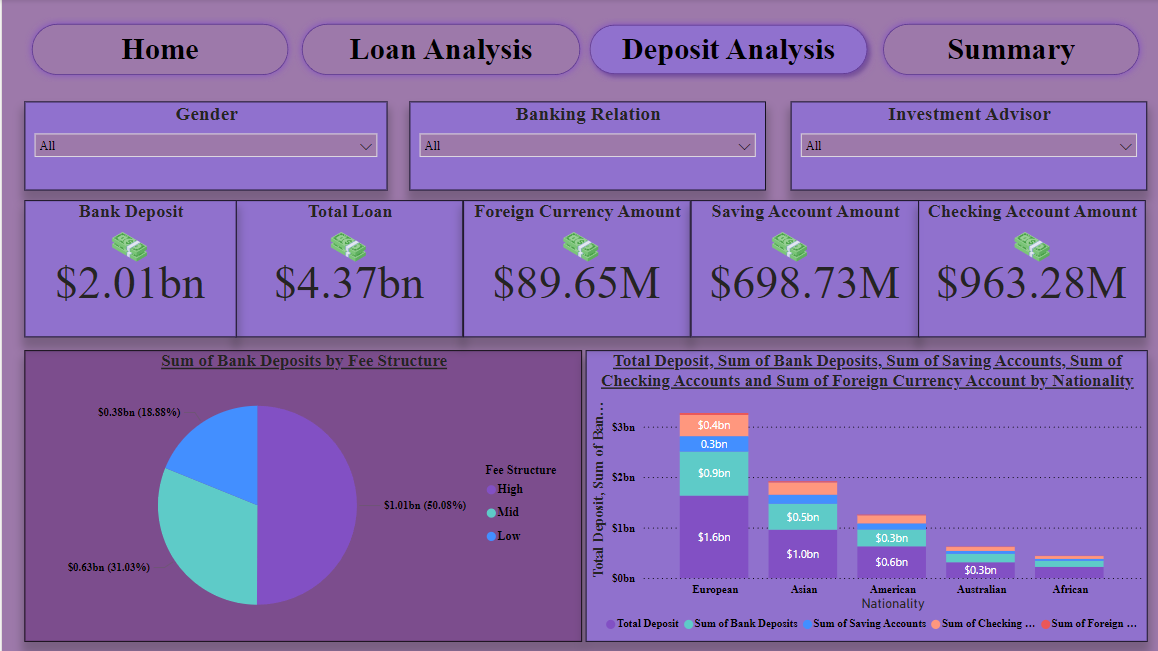

The page's visual inventory and layout, read from the dashboard file:
{"tool":"powerbi","page":{"name":"Deposit Analysis","canvas":[1280,720],"ordinal":2},"visuals":[{"type":"shape","box":[24.1,19.8,297.6,72.3],"z":0},{"type":"shape","box":[959.5,19.8,297.6,72.3],"z":1000},{"type":"shape","box":[616.5,19.8,343,72.3],"z":2000},{"type":"shape","box":[321.7,19.8,321.7,72.3],"z":3000},{"type":"slicer","title":"Banking Relation","fields":{"Values":["Clients - Banking.Banking Relationship"]},"box":[447.9,112,391.2,97.8],"z":4000},{"type":"slicer","title":"Gender","fields":{"Values":["Clients - Banking.Gender.Gender"]},"box":[24.1,112,398.3,97.8],"z":5000},{"type":"pieChart","fields":{"Y":["Sum(Clients - Banking.Bank Deposits)"],"Category":["Clients - Banking.Fee Structure"]},"box":[24.1,385.5,612.3,320.3],"z":6000},{"type":"columnChart","fields":{"Category":["Clients - Banking.Nationality"],"Y":["Banking Relationship.Total Deposit","Sum(Clients - Banking.Bank Deposits)","Sum(Clients - Banking.Saving Accounts)","Sum(Clients - Banking.Checking Accounts)","Sum(Clients - Banking.Foreign Currency Account)"]},"box":[640.6,385.5,616.5,320.3],"z":7000},{"type":"slicer","title":"Investment Advisor","fields":{"Values":["Clients - Banking.Investment Advisor"]},"box":[866,112,391.2,97.8],"z":8000},{"type":"card","title":"Total Loan","fields":{"Values":["Banking Relationship.Total Loan"]},"box":[256.5,221.1,249.4,150.2],"z":9000},{"type":"image","box":[307.6,246.6,146,49.6],"z":10000},{"type":"card","title":"Foreign Currency Amount","fields":{"Values":["Sum(Clients - Banking.Foreign Currency Account)"]},"box":[506,221.1,249.4,150.2],"z":11000},{"type":"image","box":[562.7,246.6,146,49.6],"z":12000},{"type":"card","title":"Saving Account Amount","fields":{"Values":["Banking Relationship.Saving Account Amount"]},"box":[755.4,221.1,250.9,150.2],"z":13000},{"type":"image","box":[792.3,246.6,146,49.6],"z":14000},{"type":"card","title":"Checking Account Amount","fields":{"Values":["Sum(Clients - Banking.Checking Accounts)"]},"box":[1006.3,221.1,249.4,150.2],"z":15000},{"type":"image","box":[1057.3,246.6,146,49.6],"z":16000},{"type":"card","title":"Bank Deposit","fields":{"Values":["Sum(Clients - Banking.Bank Deposits)"]},"box":[24.1,221.1,232.4,150.2],"z":17000},{"type":"image","box":[66.6,246.6,146,49.6],"z":18000}]}

Visuals, with their boxes in screenshot pixels (x1, y1, x2, y2), scaled from the page's 1280x720 canvas onto the 1158x651 screenshot:
shape: 22:18:291:83
shape: 868:18:1137:83
shape: 558:18:868:83
shape: 291:18:582:83
"Banking Relation" slicer: 405:101:759:190
"Gender" slicer: 22:101:382:190
pieChart - Sum(Clients - Banking.Bank Deposits) x Clients - Banking.Fee Structure: 22:349:576:638
columnChart - Clients - Banking.Nationality x Banking Relationship.Total Deposit: 580:349:1137:638
"Investment Advisor" slicer: 783:101:1137:190
"Total Loan" card: 232:200:458:336
image: 278:223:410:268
"Foreign Currency Amount" card: 458:200:683:336
image: 509:223:641:268
"Saving Account Amount" card: 683:200:910:336
image: 717:223:849:268
"Checking Account Amount" card: 910:200:1136:336
image: 957:223:1089:268
"Bank Deposit" card: 22:200:232:336
image: 60:223:192:268
